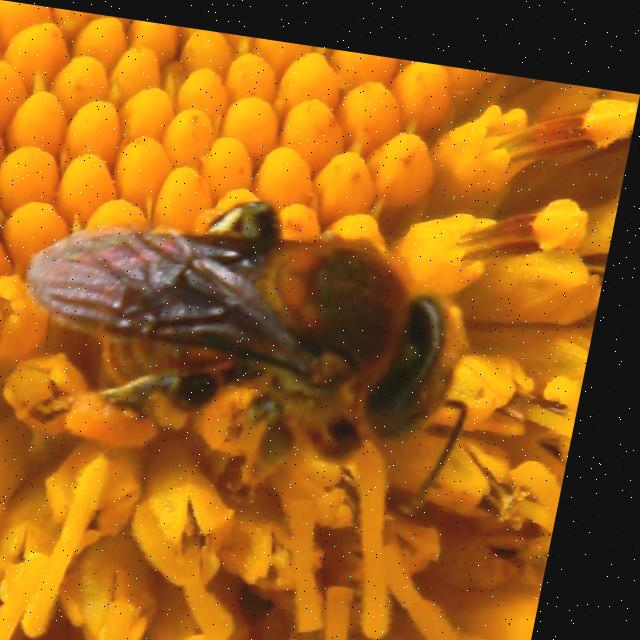Meliponula: (2, 157, 531, 512)
